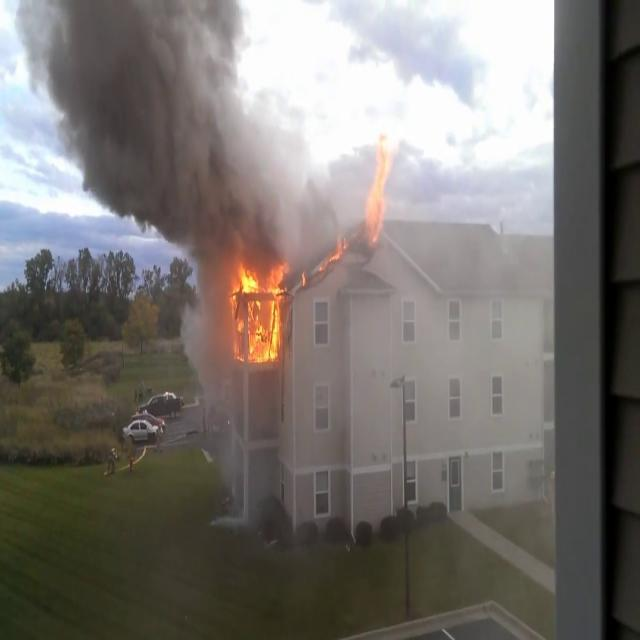Fire: (229, 255, 291, 363), (360, 131, 398, 241)
Smoke: (36, 0, 353, 263), (182, 261, 232, 432)
